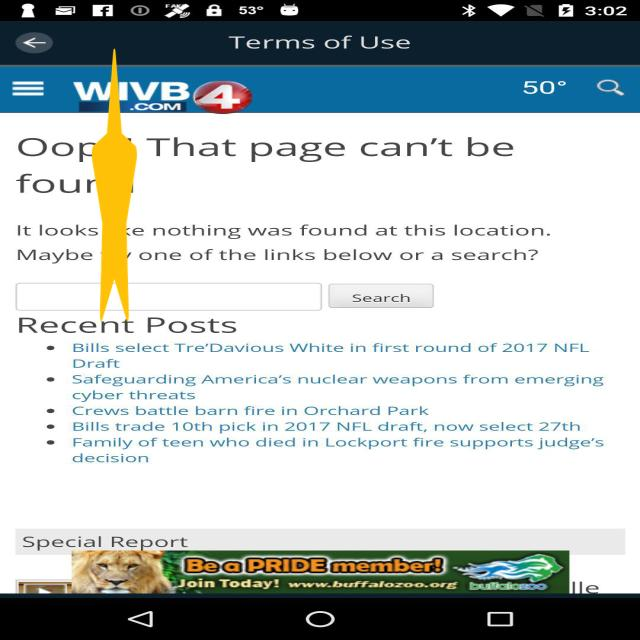forced continuity: (92, 48, 137, 322)
